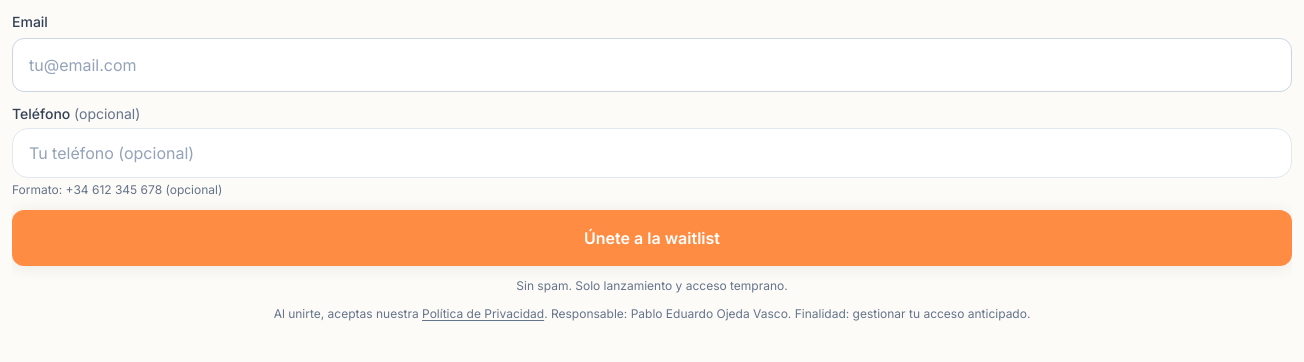
WaitlistForm — phone field › shows phone validation error for invalid phone format after blur
Type "notaphone" into the field with placeholder "Tu teléfono (opcional)" at (652,153), box [12, 128, 1292, 178]
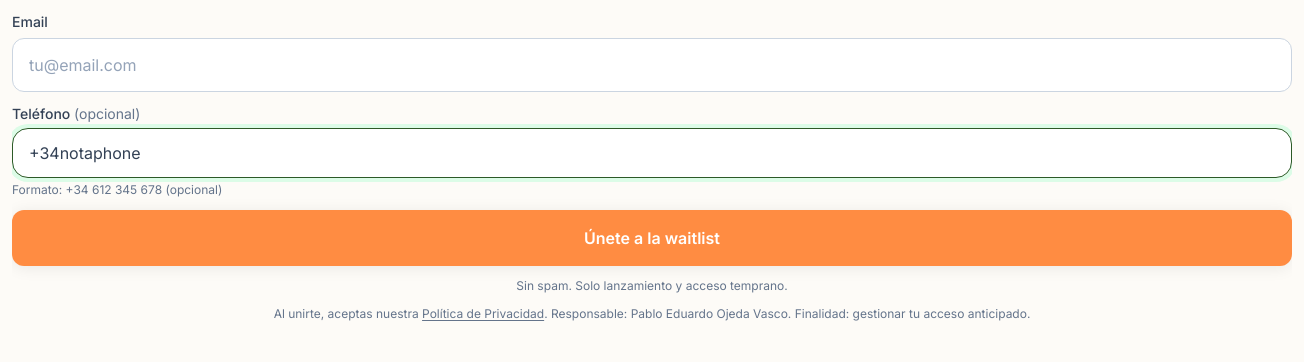
Press Tab
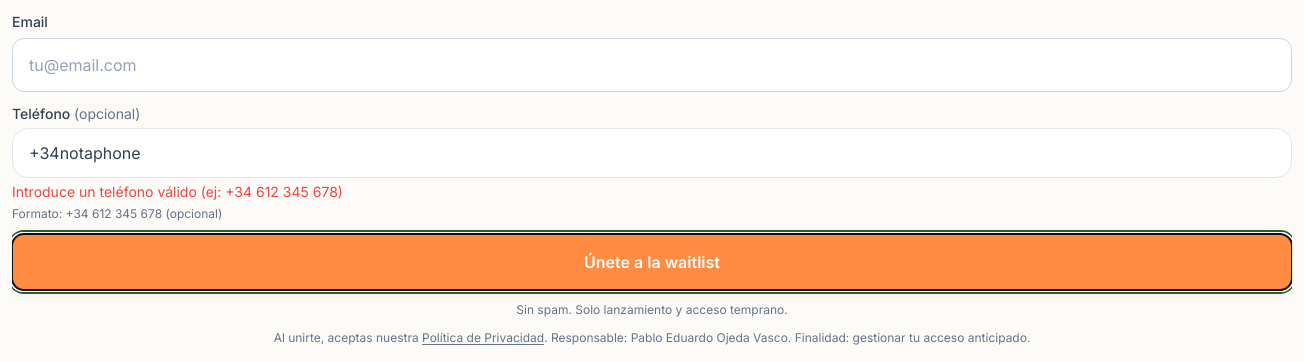
expect the text "Introduce un teléfono válido (ej: +34 612 345 678)" is shown: met, box [12, 183, 343, 200]
